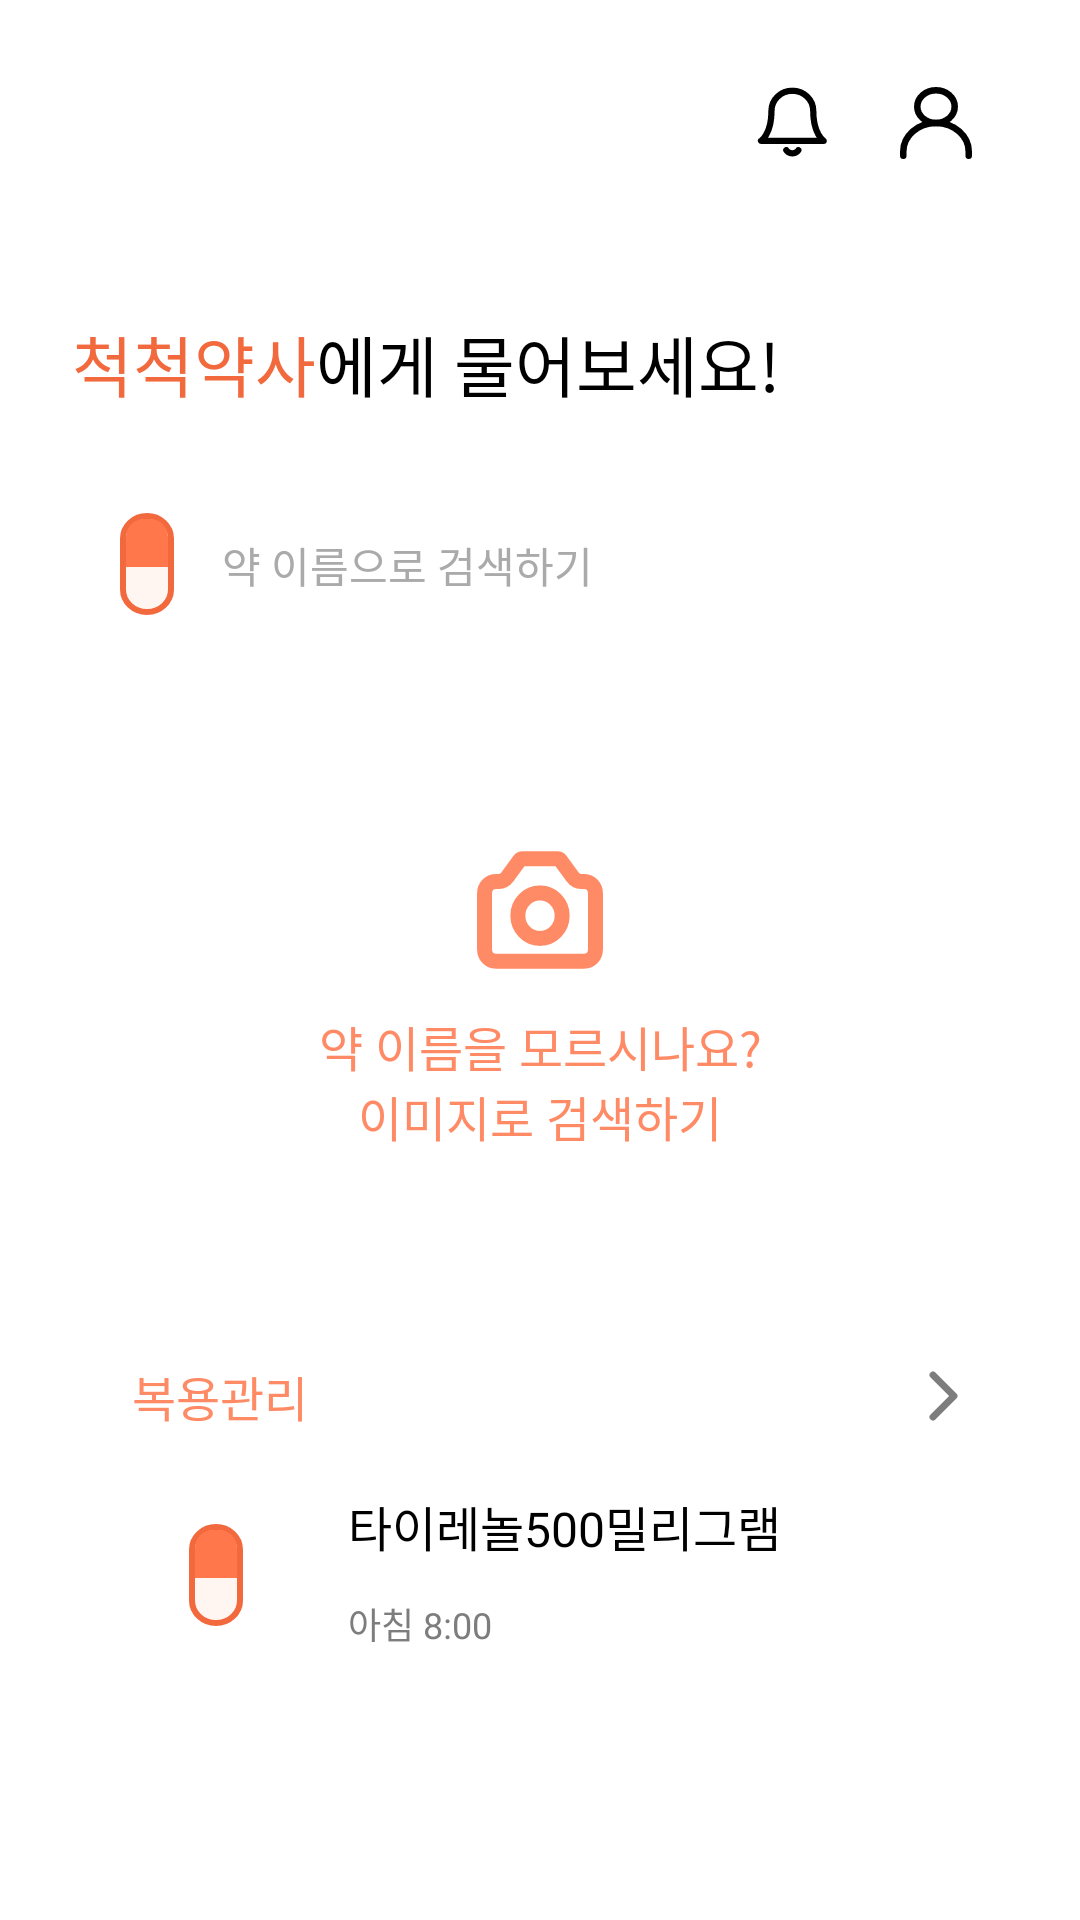

Icon click points for this 1080×1920 phone screenshot, format (x,y):
arrow right: (943,1396)
bell: (792,122)
camera: (540,910)
mypage: (936,123)
pill: (147,564), (216,1575)
